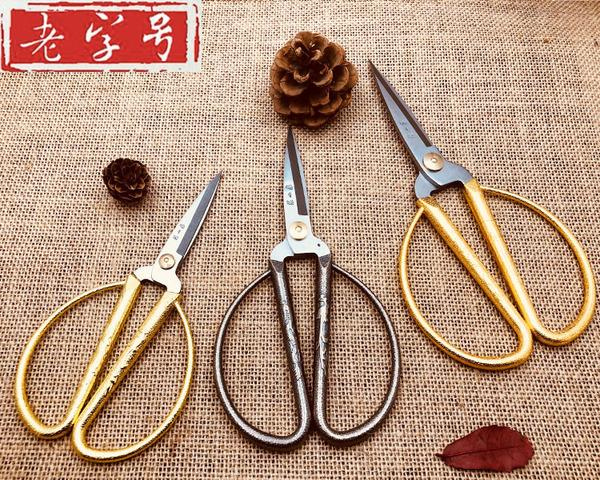scissor: (366, 55, 597, 372), (215, 118, 405, 452), (12, 169, 225, 466)
